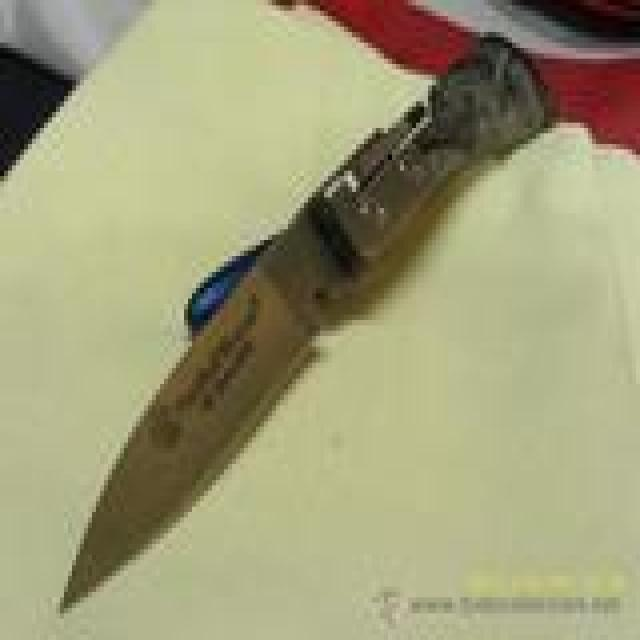Knife: (48, 24, 542, 618)
